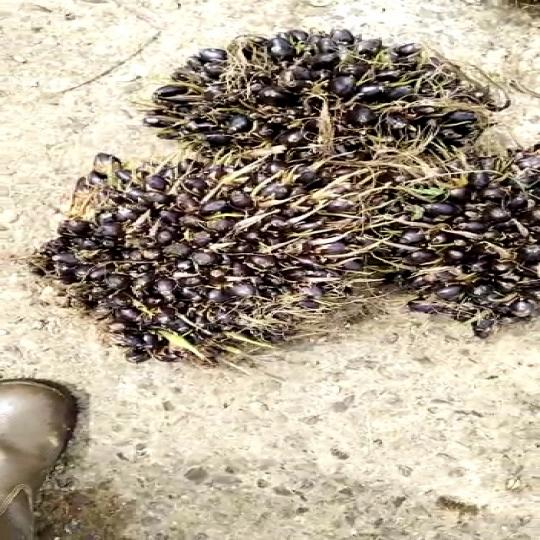mentah: (37, 152, 388, 366), (151, 22, 472, 163), (354, 142, 540, 340)
